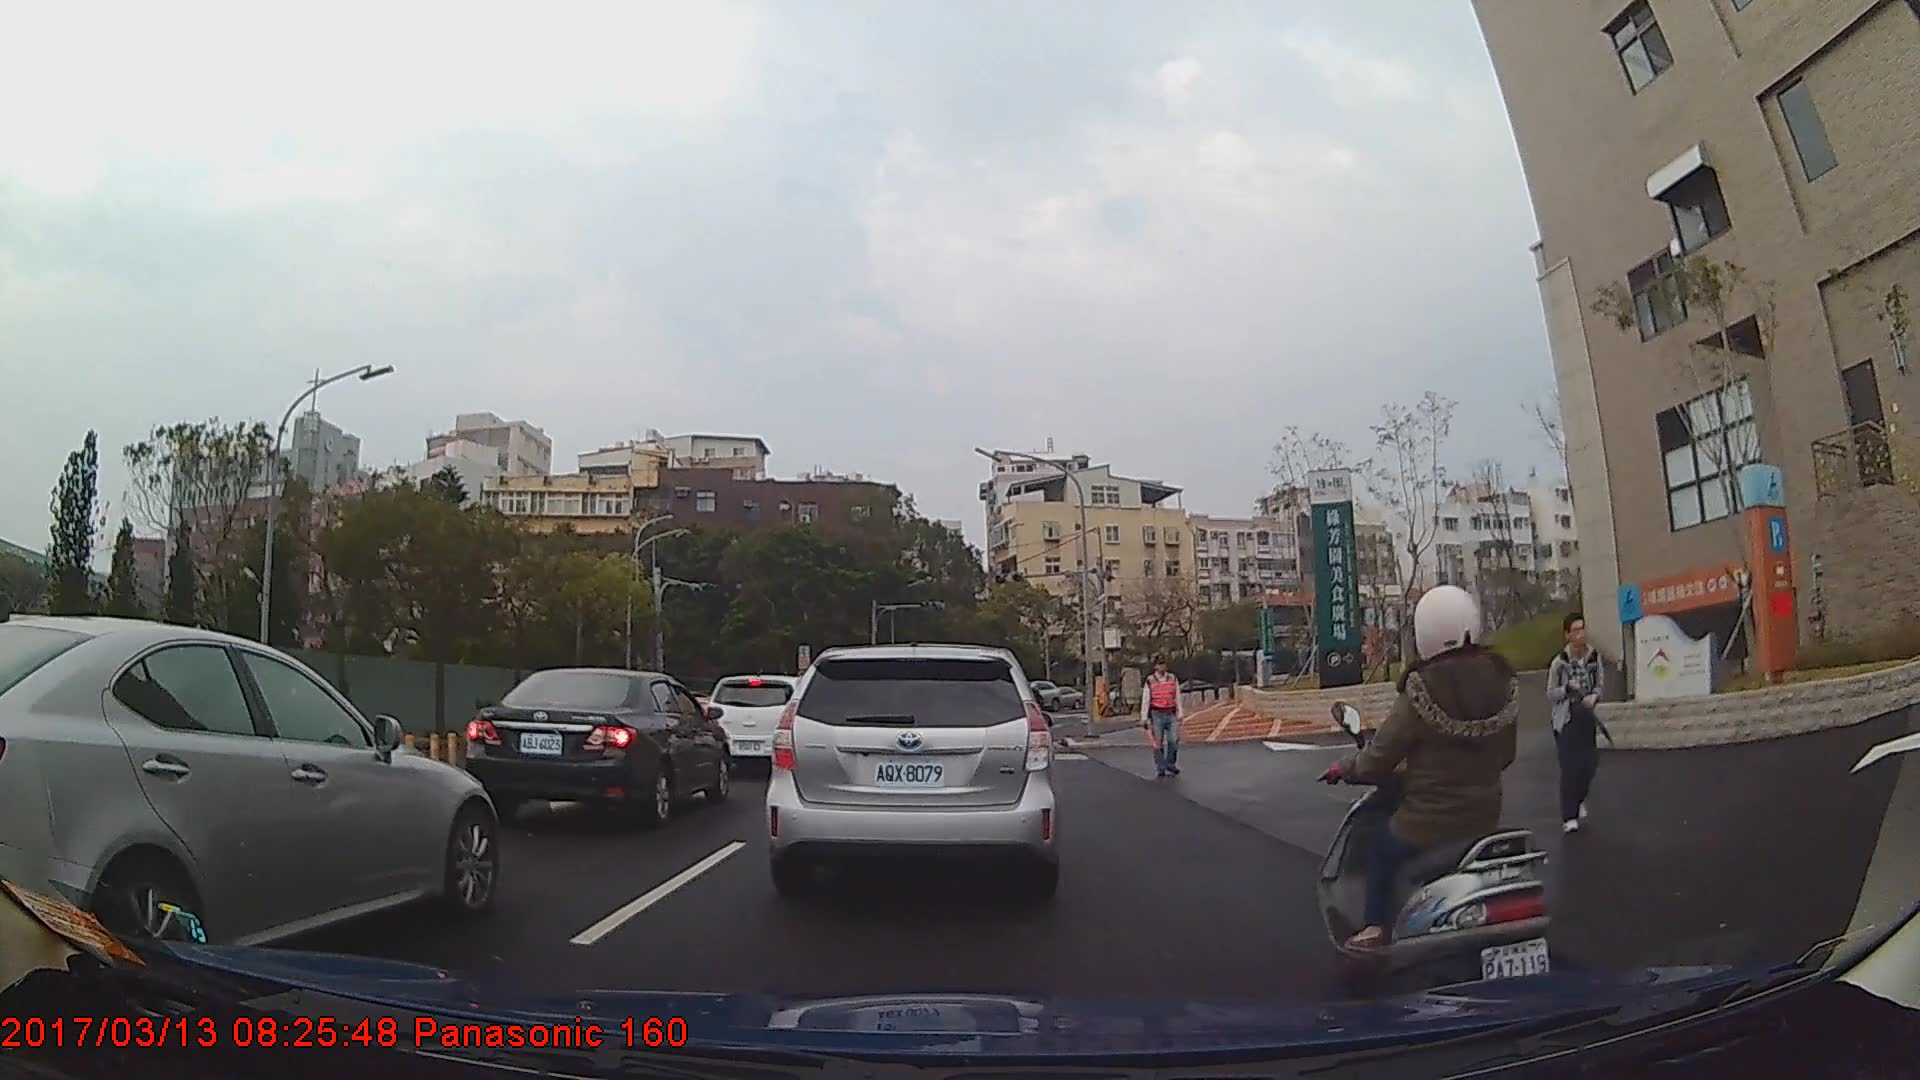pedestrian: (1140, 656, 1184, 782)
rider: (1311, 585, 1562, 1030)
vehicle: (0, 610, 499, 971), (765, 642, 1061, 900), (466, 665, 733, 828), (710, 674, 820, 767), (1044, 684, 1084, 713)
